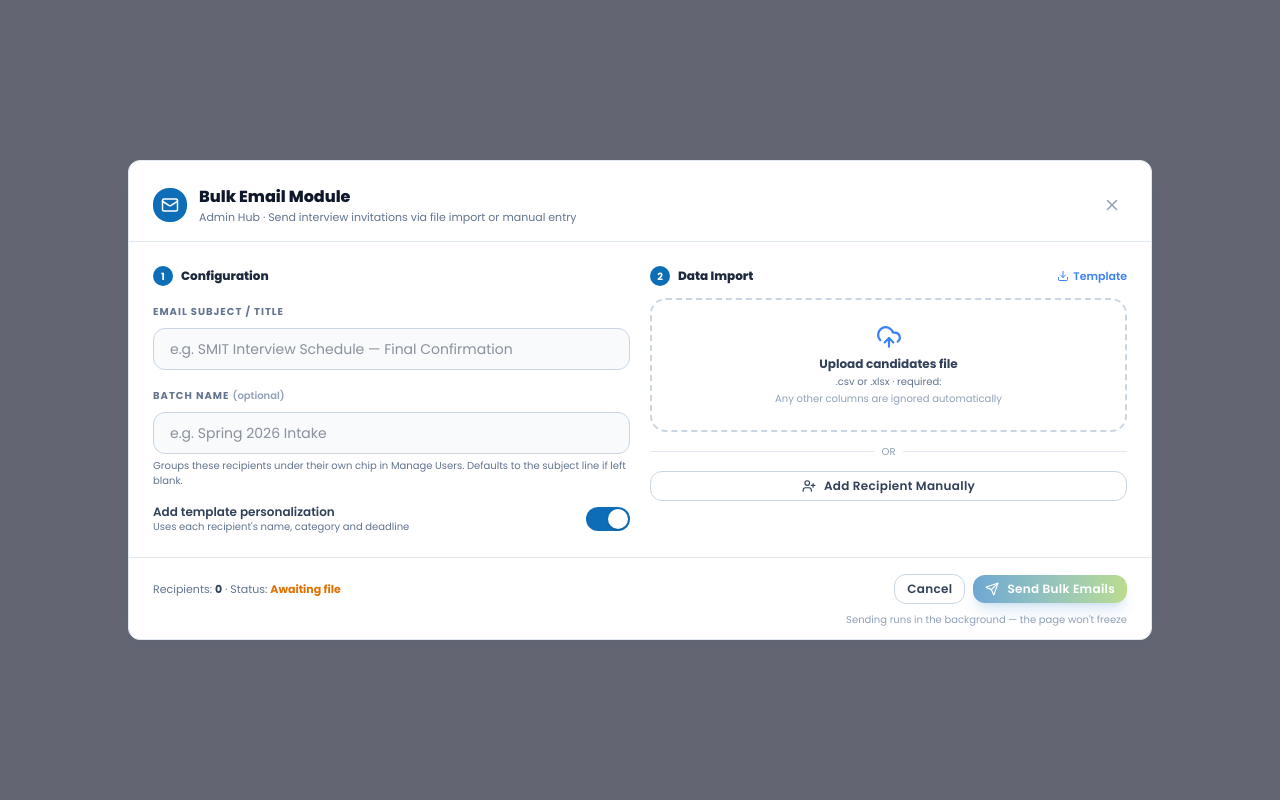
Test: Category options survive a backend that sends no category_groups › offers every category from the flat list when the server describes no groups
Click the button "Add Recipient Manually" at (888, 486), box 650,471 -> 1127,501
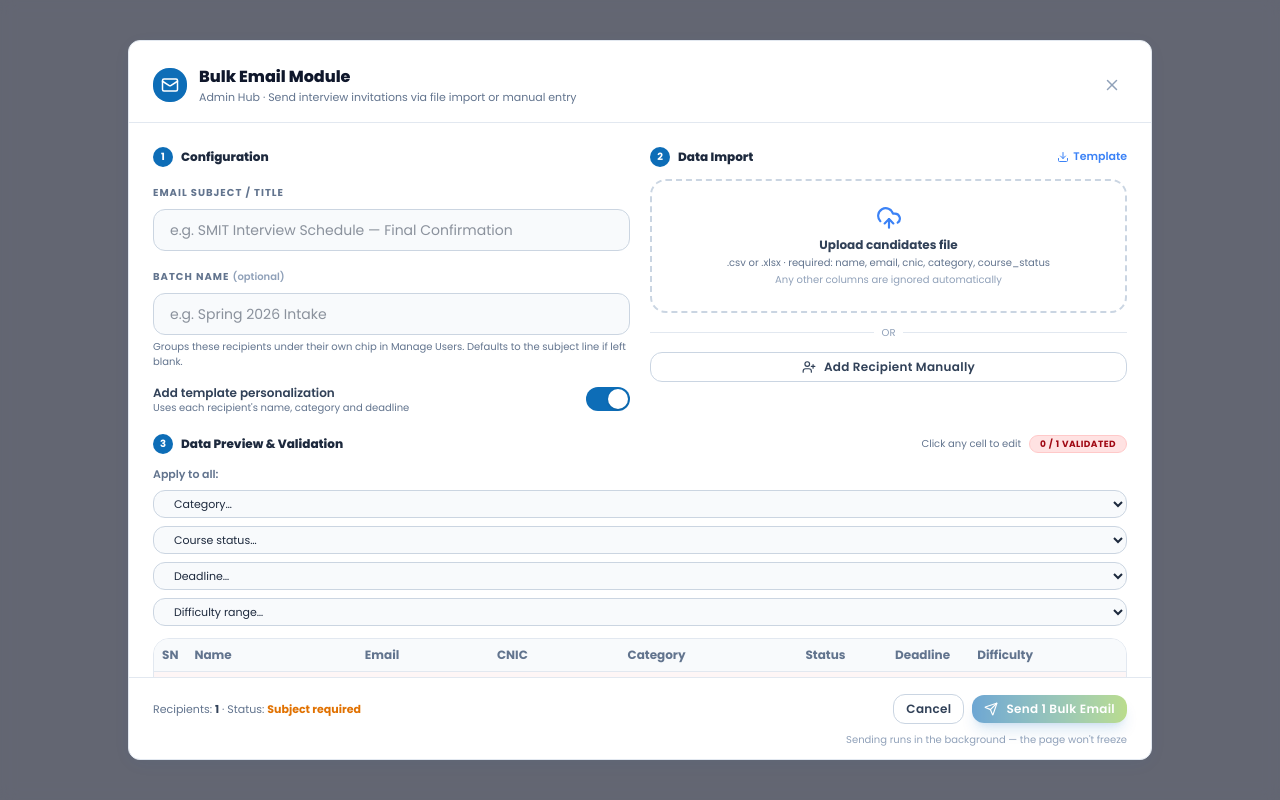
Expected: the 1st dropdown is shown, 153,490 -> 1127,518
